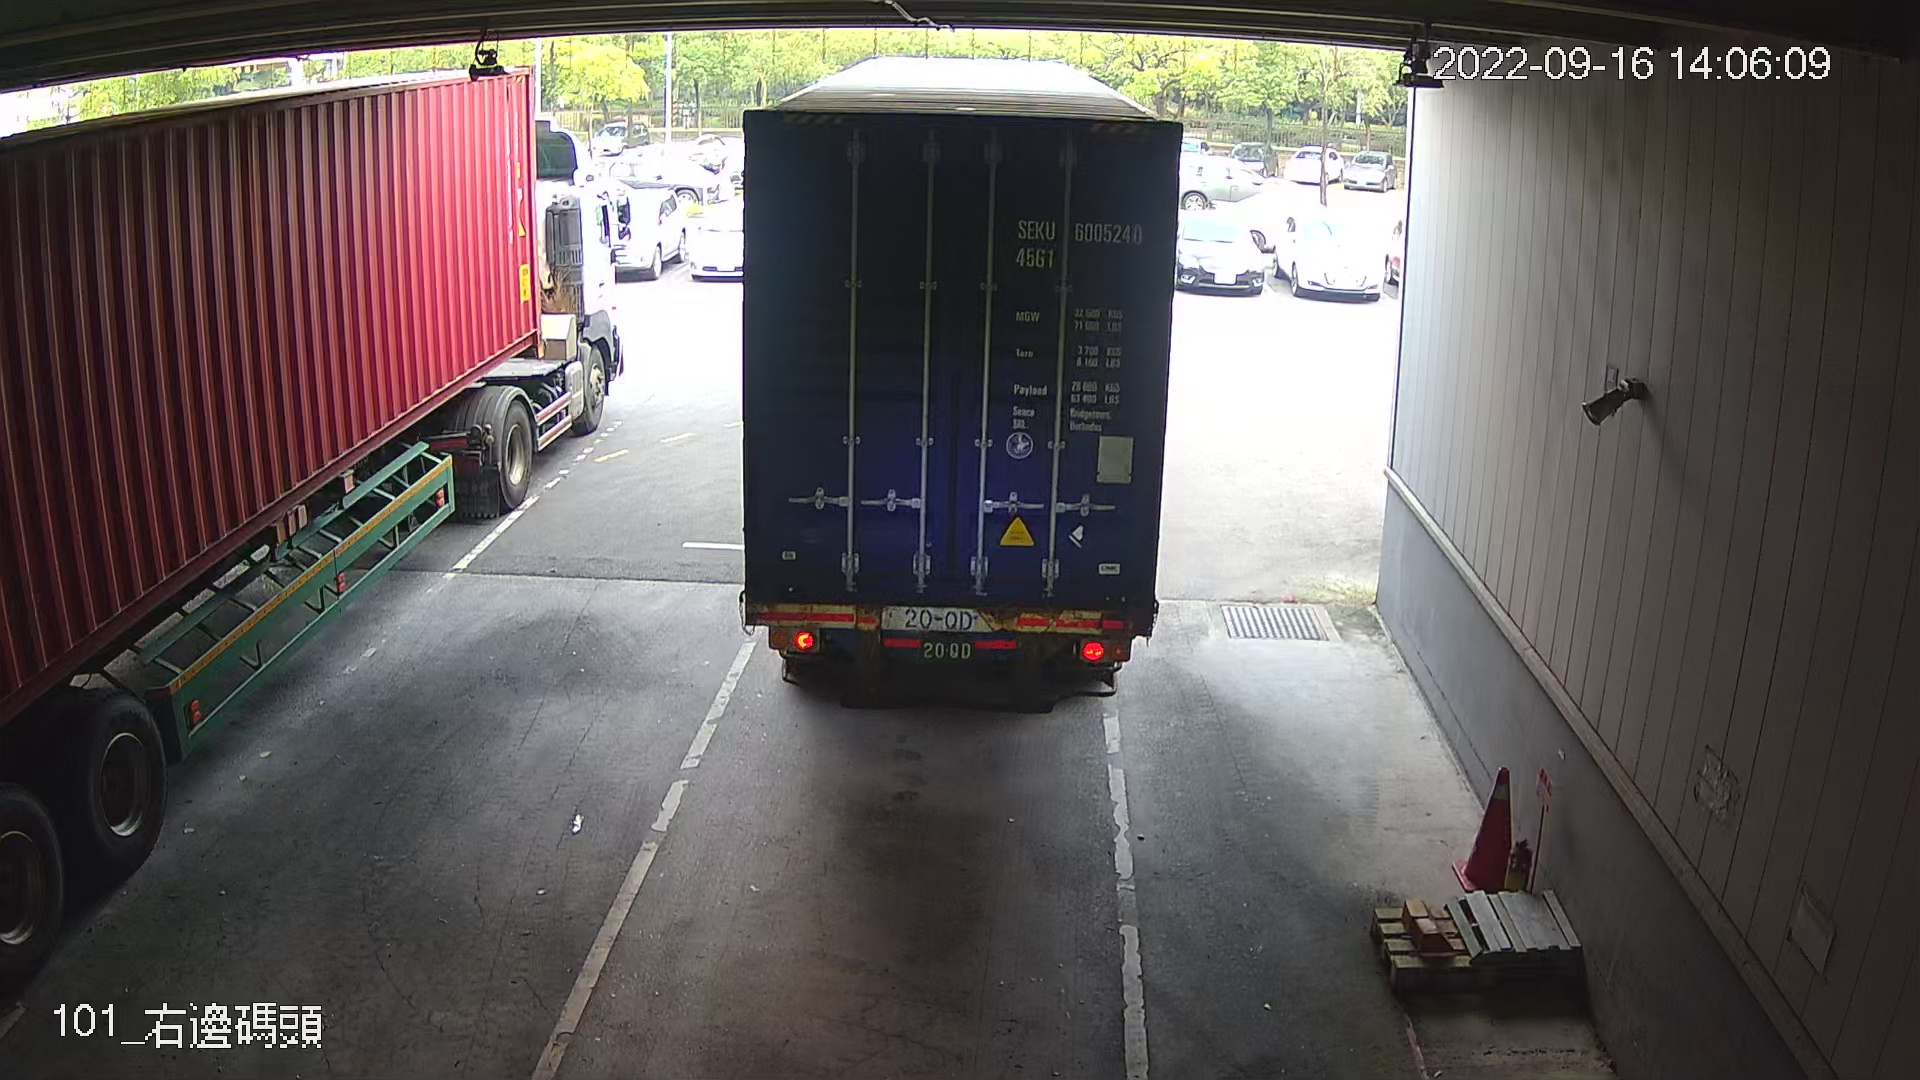container: (1009, 211, 1154, 276)
